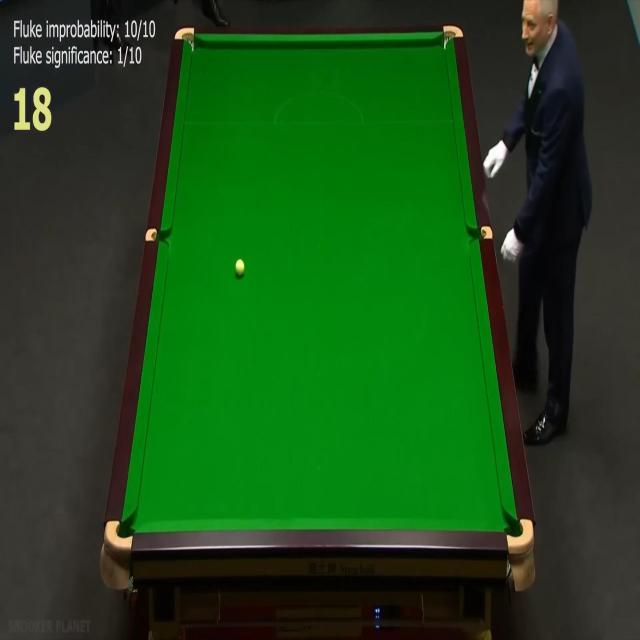Ball: (235, 259, 245, 276)
